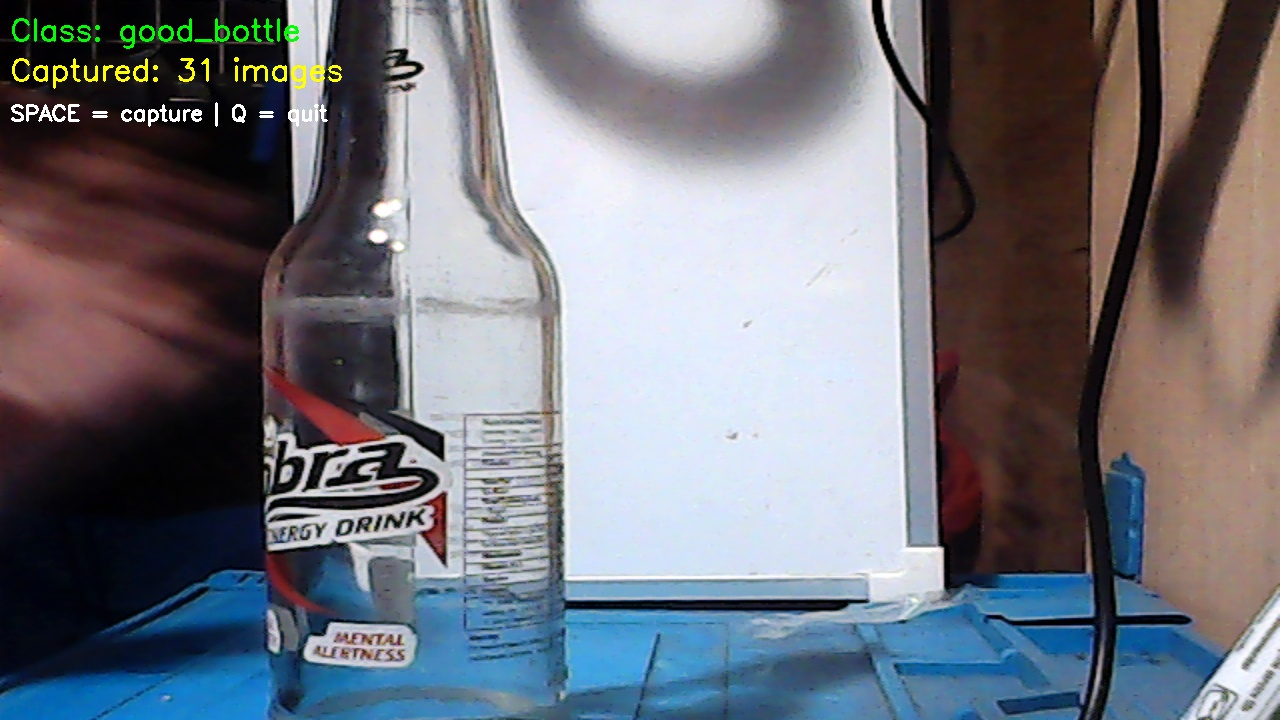good_bottle: (258, 3, 589, 707)
